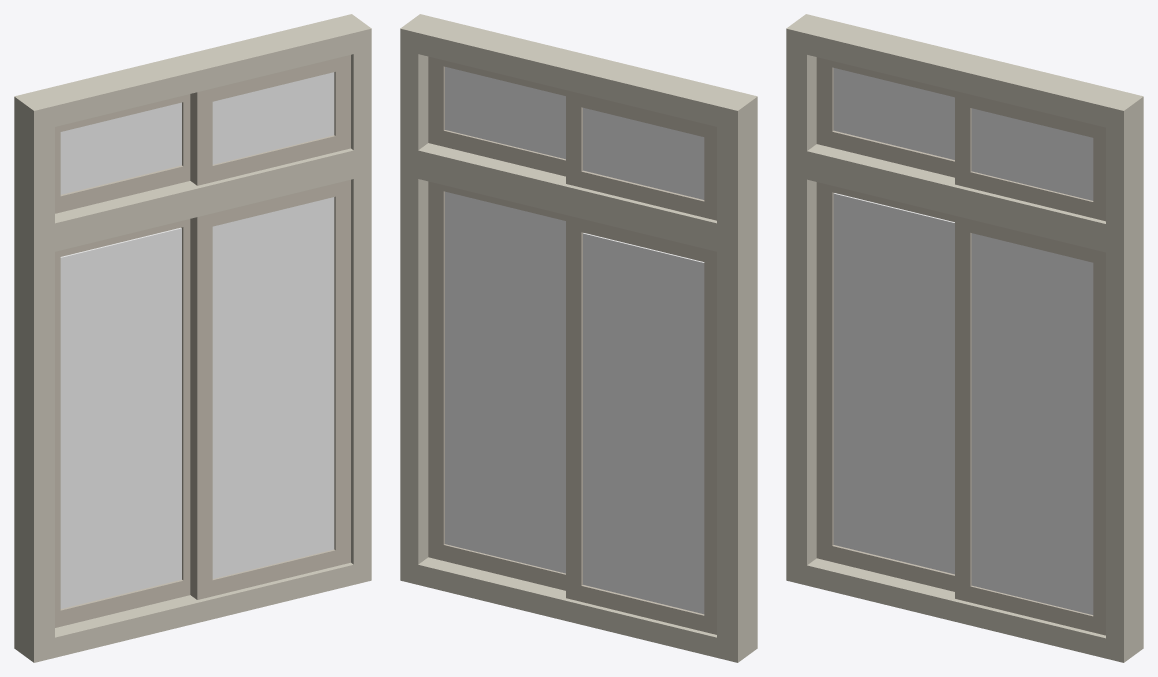
File: window.fbx
The picture shows the model from 3 angles, left to right: view 1: azimuth 30°, elevation 25°; view 2: azimuth 150°, elevation 25°; view 3: azimuth 330°, elevation 25°; orthographic projection.
Visible parts, largest first — view 1: Box005, Box008, Box011, Box001, Box002, Box013, Box012, Box004, Box003; view 2: Box005, Box011, Box008, Box002, Box001, Box012, Box013, Box003, Box004; view 3: Box005, Box008, Box011, Box001, Box002, Box013, Box012, Box004, Box003.
Boxes of the visible parts, bbox=[...] form: Box005: bbox=[14, 14, 371, 662]; Box008: bbox=[212, 197, 334, 578]; Box011: bbox=[60, 227, 181, 608]; Box001: bbox=[190, 179, 350, 599]; Box002: bbox=[55, 219, 190, 627]; Box013: bbox=[212, 72, 334, 164]; Box012: bbox=[60, 102, 181, 194]; Box004: bbox=[190, 55, 350, 185]; Box003: bbox=[55, 94, 190, 213]; Box005: bbox=[400, 14, 757, 662]; Box011: bbox=[583, 233, 704, 614]; Box008: bbox=[445, 191, 565, 573]; Box002: bbox=[566, 215, 716, 634]; Box001: bbox=[428, 181, 565, 590]; Box012: bbox=[583, 107, 704, 199]; Box013: bbox=[445, 67, 565, 159]; Box003: bbox=[566, 90, 716, 220]; Box004: bbox=[428, 56, 565, 176]; Box005: bbox=[786, 14, 1143, 662]; Box008: bbox=[971, 233, 1093, 614]; Box011: bbox=[833, 193, 954, 574]; Box001: bbox=[955, 216, 1105, 635]; Box002: bbox=[816, 182, 954, 591]; Box013: bbox=[971, 108, 1093, 200]; Box012: bbox=[833, 68, 954, 159]; Box004: bbox=[955, 91, 1105, 221]; Box003: bbox=[816, 57, 954, 177].
Size of the model in its own units: 220 by 343 by 22.5.
